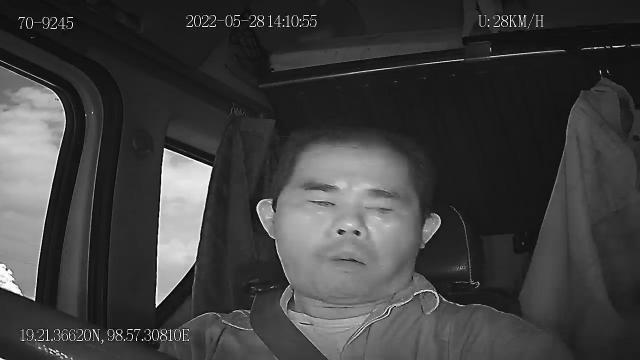SafeDriving: (292, 185, 346, 216), (356, 192, 404, 224)
Seatbelt: (245, 286, 337, 360)
